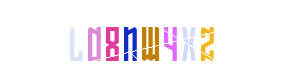4: (110, 0, 190, 80)
8: (90, 0, 170, 80)
D: (86, 0, 166, 80)
L: (72, 0, 152, 80)
N: (98, 0, 178, 80)
W: (105, 0, 185, 80)
X: (131, 0, 211, 80)
Z: (161, 0, 241, 80)
